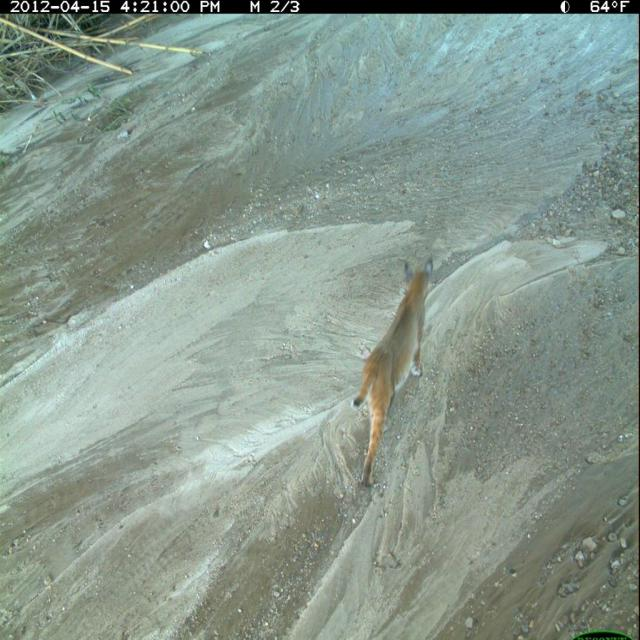bobcat: (350, 253, 437, 494)
